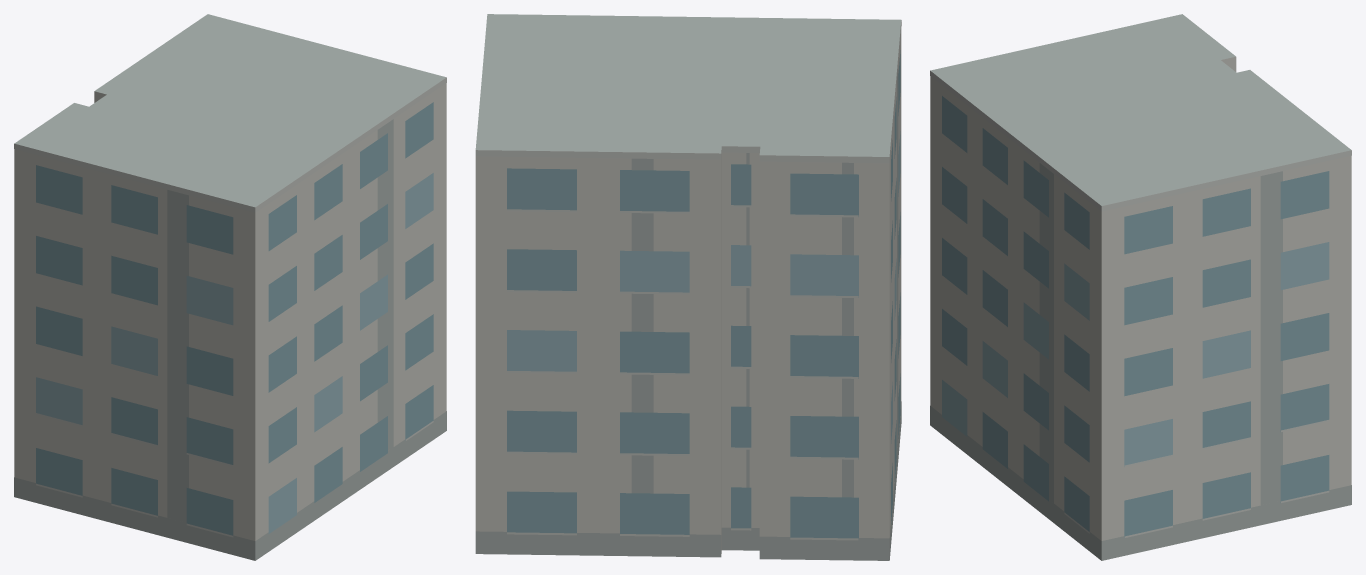
File: survey-upis-32789404.glb
3 views of the same model, side by side, from view 1: azimuth 30°, elevation 25°; view 2: azimuth 150°, elevation 25°; view 3: azimuth 270°, elevation 25° (orthographic). The views are drawn at different scales.
Parts seen in each view (by area): view 1: survey-upis-32789404.tmp; view 2: survey-upis-32789404.tmp; view 3: survey-upis-32789404.tmp.
Boxes of the visible parts, left/top/right/bottom form: survey-upis-32789404.tmp: left=14, top=14, right=446, bottom=560; survey-upis-32789404.tmp: left=475, top=14, right=901, bottom=560; survey-upis-32789404.tmp: left=930, top=14, right=1351, bottom=560.
Bounding box in the file's own units: 18.01 × 15.5 × 16.7.
